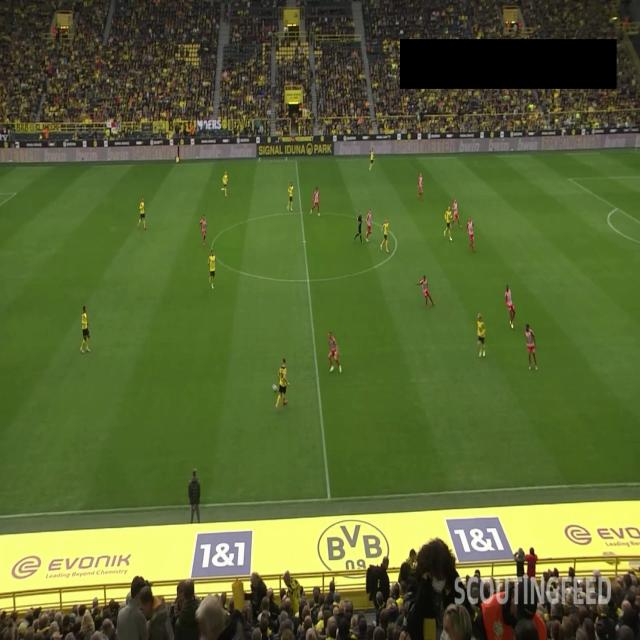ball: (272, 383, 278, 394)
player: (275, 357, 290, 412), (416, 274, 435, 308), (525, 324, 538, 371), (328, 331, 342, 374), (80, 306, 91, 354), (505, 284, 515, 330), (477, 313, 486, 357), (466, 216, 476, 252), (451, 199, 462, 231), (207, 250, 216, 289), (444, 206, 454, 241), (137, 196, 147, 230), (380, 218, 389, 254), (310, 186, 320, 216), (200, 214, 208, 246), (287, 181, 294, 212), (366, 208, 372, 241), (417, 172, 424, 200), (222, 170, 228, 197), (369, 146, 374, 170)
referee: (354, 209, 363, 244), (175, 140, 182, 165)
